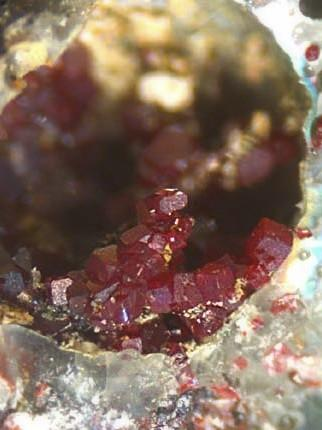cuprite: (51, 188, 310, 394)
